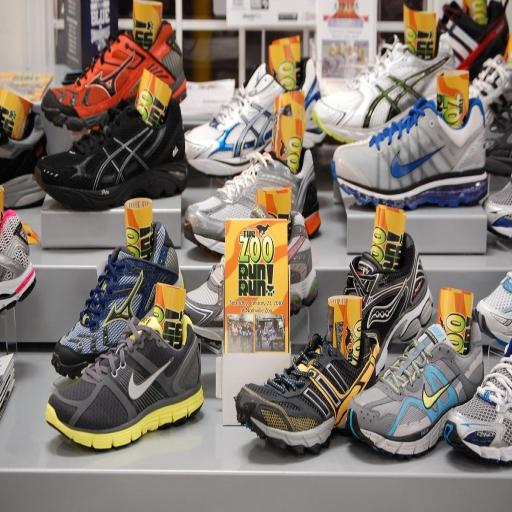shoe: (46, 316, 204, 449), (52, 223, 182, 378), (347, 322, 483, 458), (185, 211, 318, 346), (332, 98, 488, 209), (34, 100, 188, 211), (235, 334, 379, 452), (313, 36, 455, 153), (185, 58, 325, 176), (41, 21, 186, 131), (184, 150, 320, 254), (343, 232, 433, 374), (443, 343, 512, 461), (438, 0, 508, 80), (469, 55, 512, 176), (0, 113, 46, 209), (185, 256, 225, 350), (0, 210, 36, 311), (288, 211, 318, 315), (469, 55, 512, 127), (475, 271, 512, 345), (482, 148, 512, 238), (485, 95, 512, 176)
